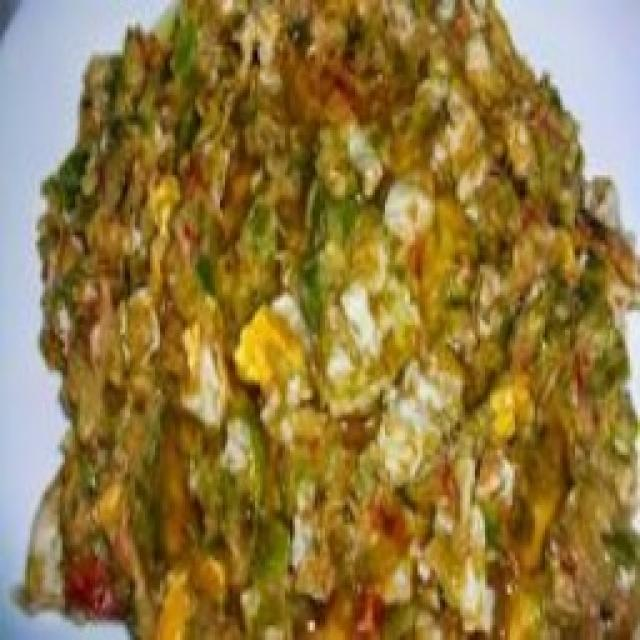Kafteji: (26, 0, 640, 640)
